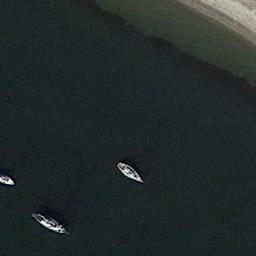boat: (30, 211, 70, 235), (115, 160, 145, 184), (0, 171, 15, 187)
